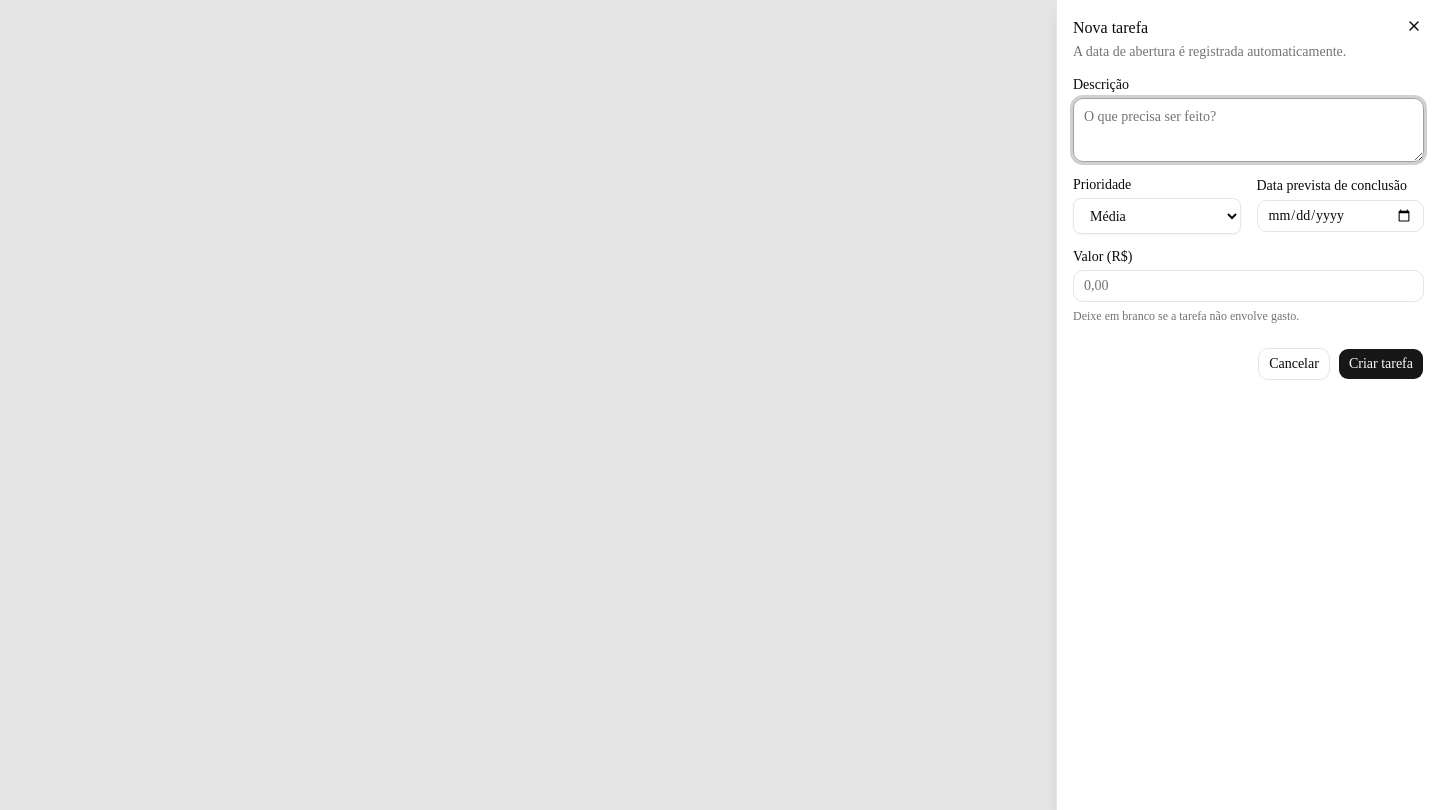
Test: DrawerTarefa › deve exibir a mensagem do servidor quando salvar falhar e manter o drawer aberto
Type "Ler livro" into the text box labelled "Descrição" at (1248, 130), box [1073,98,1424,162]
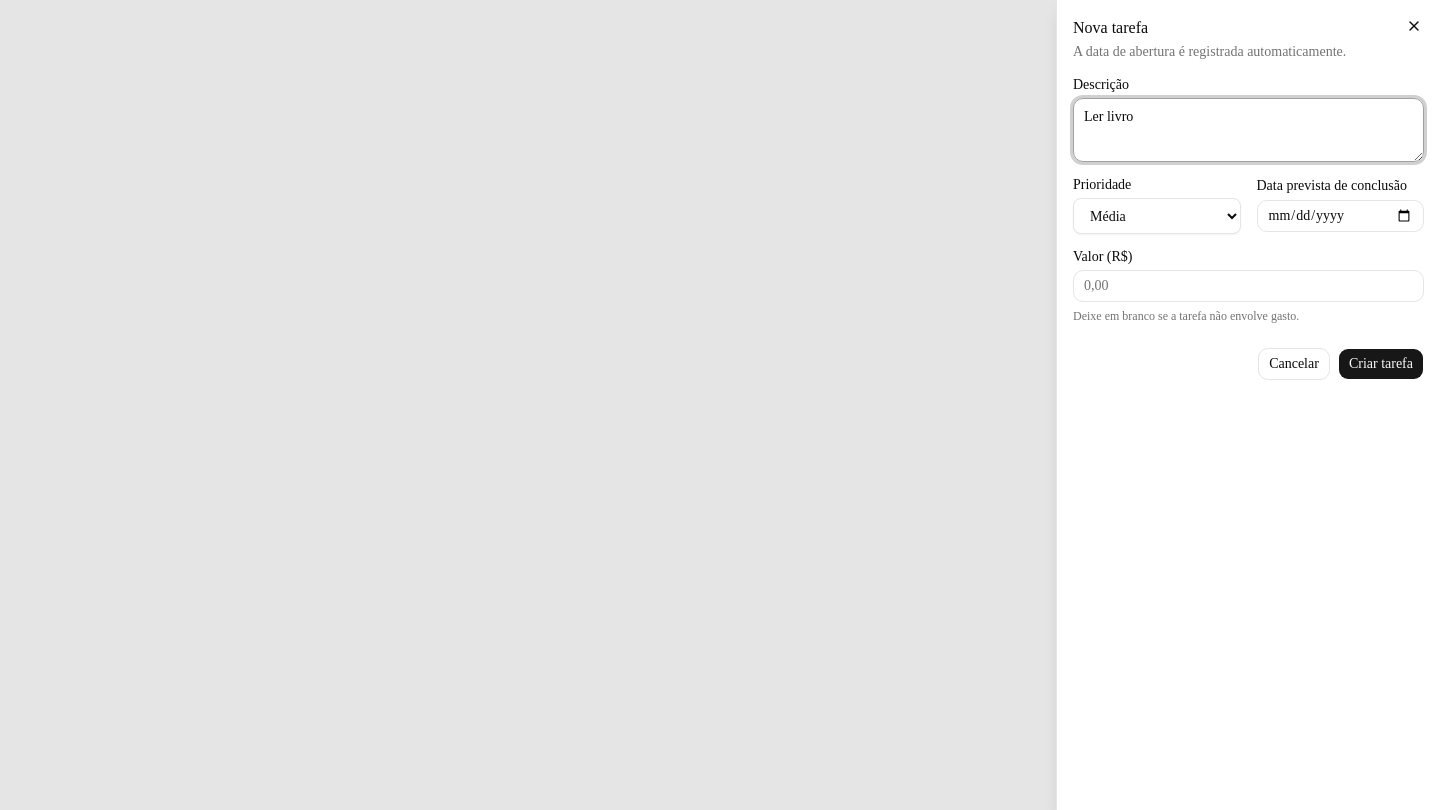
Click the button "Criar tarefa" at (1381, 364), box [1338,348,1424,380]
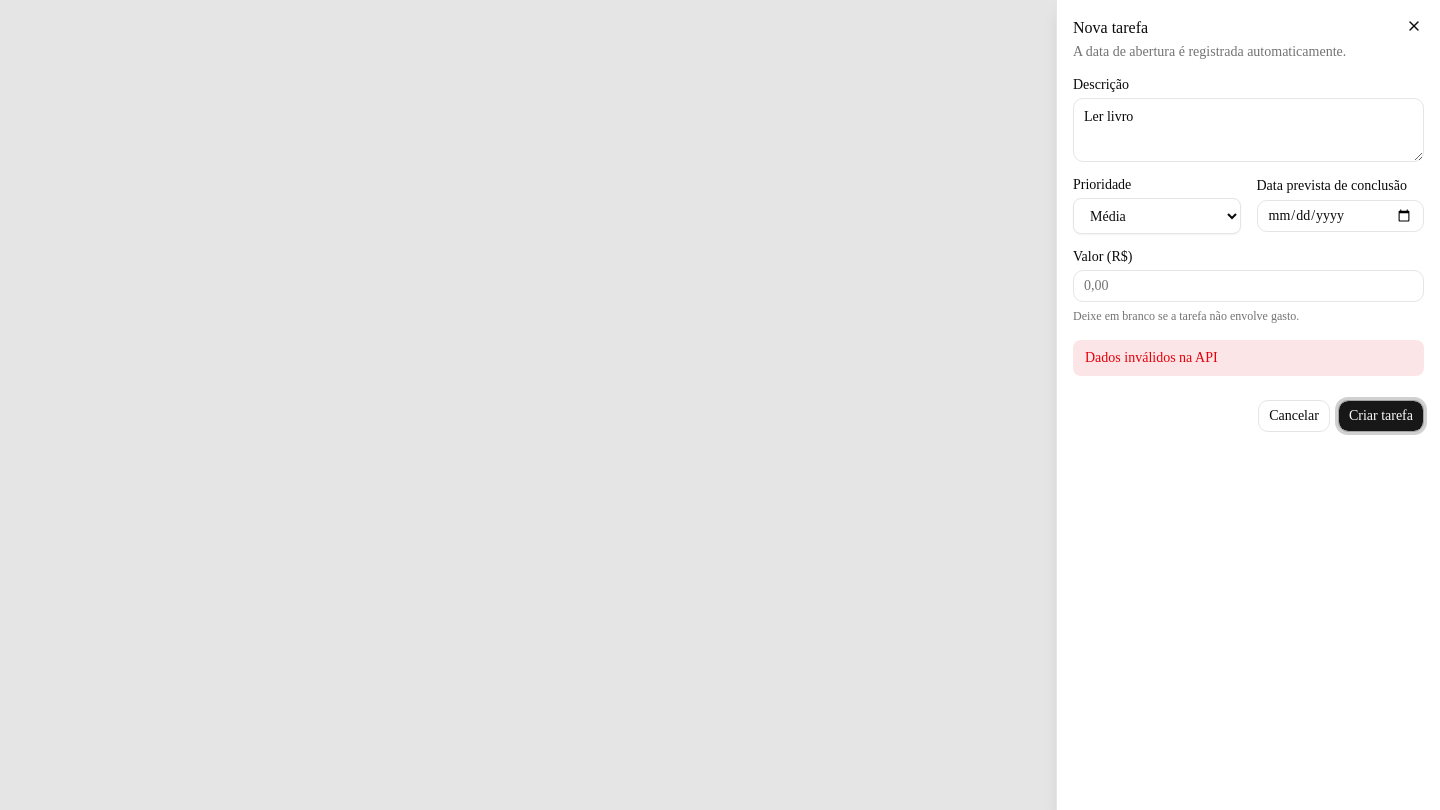
Now the text "Dados inválidos na API" is shown, box [1073,340,1424,376]
